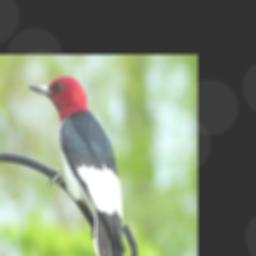Woodpecker: (27, 74, 133, 256)
